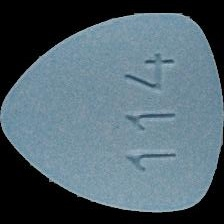61786-010: (0, 0, 224, 224)
